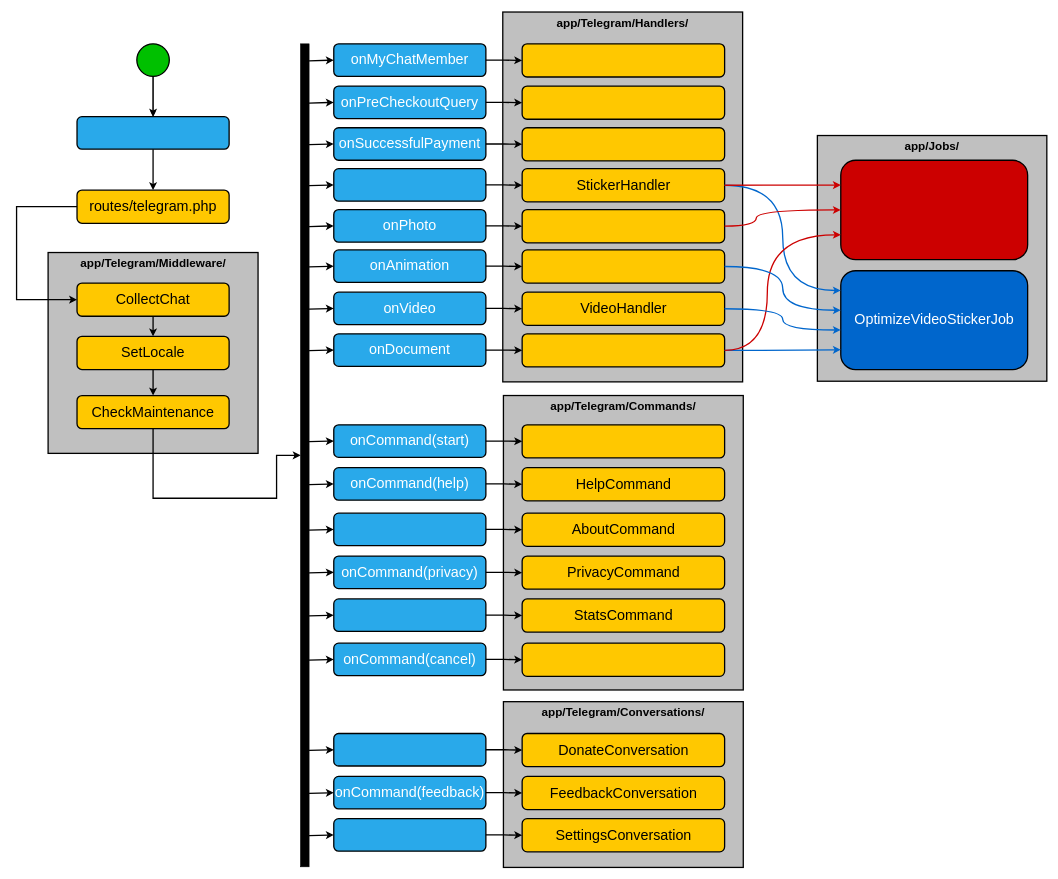
Image size: 1058x879. Some labels were removed from this diagram. The centre of each missing label's shape, as x and y in pixels:
AnimationHandler: the point at 623,266
CancelCommand: the point at 623,659
DocumentHandler: the point at 623,350
On Telegram Webook: the point at 152,133
onCommand(about): the point at 409,529
onCommand(donate): the point at 409,749
onCommand(settings): the point at 409,835
onCommand(stats): the point at 409,615
onSticker: the point at 409,185
OptimizeStickerJob: the point at 934,209
PhotoHandler: the point at 623,226
PreCheckoutQueryHandler: the point at 623,102
StartCommand: the point at 623,441
SuccessfulPaymentHandler: the point at 623,144
UpdateChatStatusHandler: the point at 623,60
